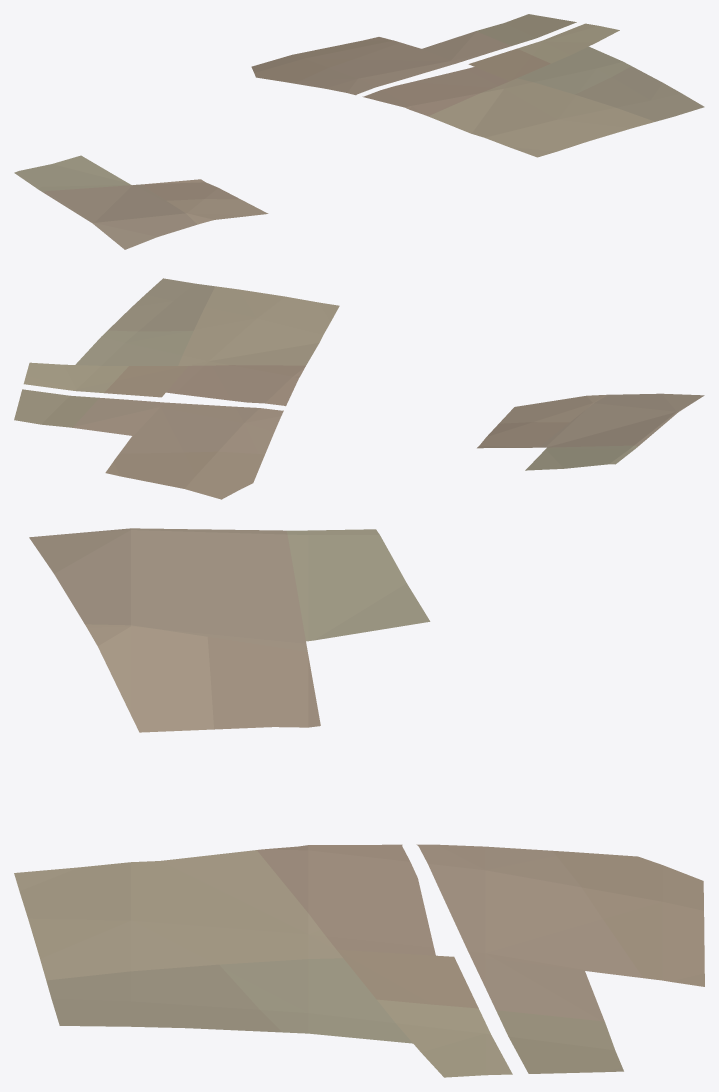
Rendered from farm_-4_-8_soil.glb.
3 views of the same model, one above another, from view 1: azimuth 30°, elevation 25°; view 2: azimuth 150°, elevation 25°; view 3: azimuth 270°, elevation 25° (orthographic). The views are drawn at different scales.
Visible parts, largest first — view 1: geometry_0; view 2: geometry_0; view 3: geometry_0.
Boxes of the visible parts, box(x1,y1,x2,y2) form: geometry_0: box(14, 14, 704, 249); geometry_0: box(14, 278, 704, 499); geometry_0: box(14, 528, 704, 1077).
Size of the model in its own units: 541 by 43.41 by 312.
